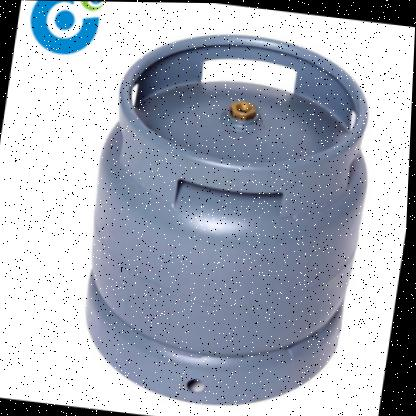gas-tank: (50, 0, 408, 415)
